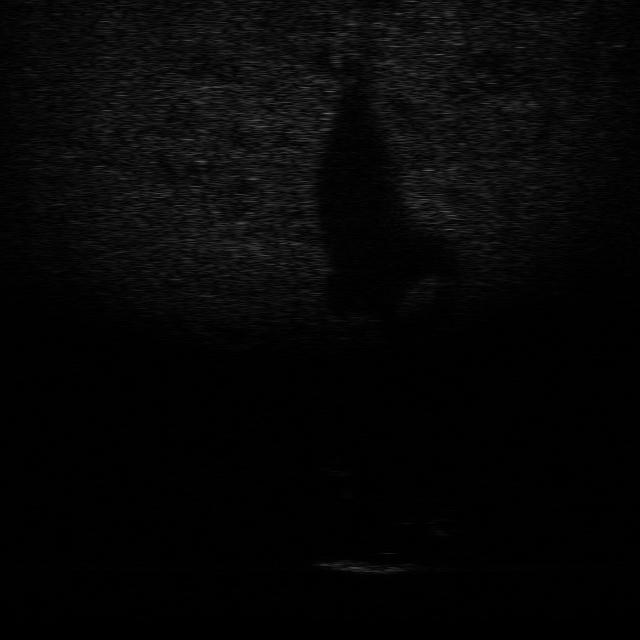ball: (317, 447, 365, 478)
metal bucket: (315, 548, 420, 576)
tyre: (385, 491, 457, 529)
